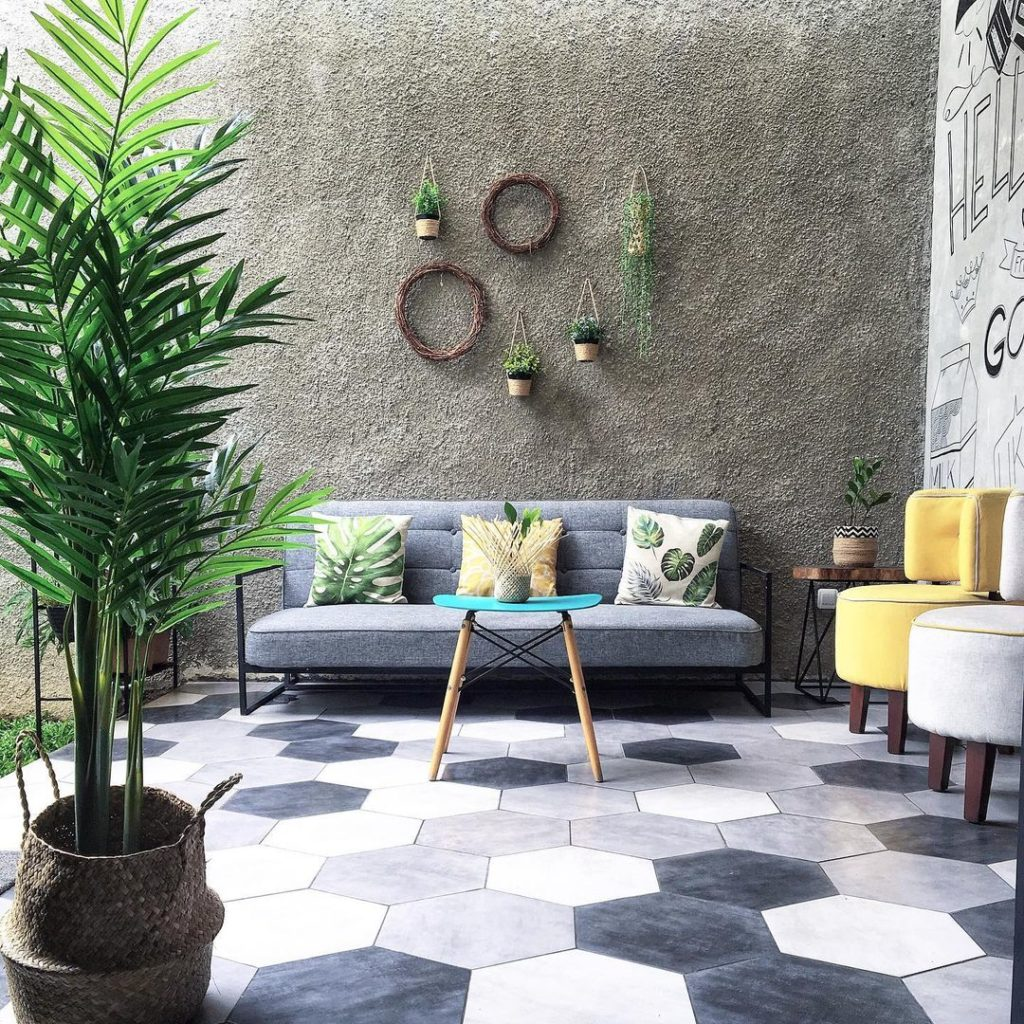Bantal: (455, 509, 561, 609), (618, 504, 722, 604), (308, 509, 407, 609)
Meja: (420, 592, 618, 788)
Sova: (247, 504, 772, 723)
Tanaman: (1, 1, 223, 1023), (621, 158, 659, 350), (825, 453, 885, 567), (489, 502, 536, 603), (567, 269, 609, 367), (409, 148, 451, 242), (501, 304, 540, 404)
